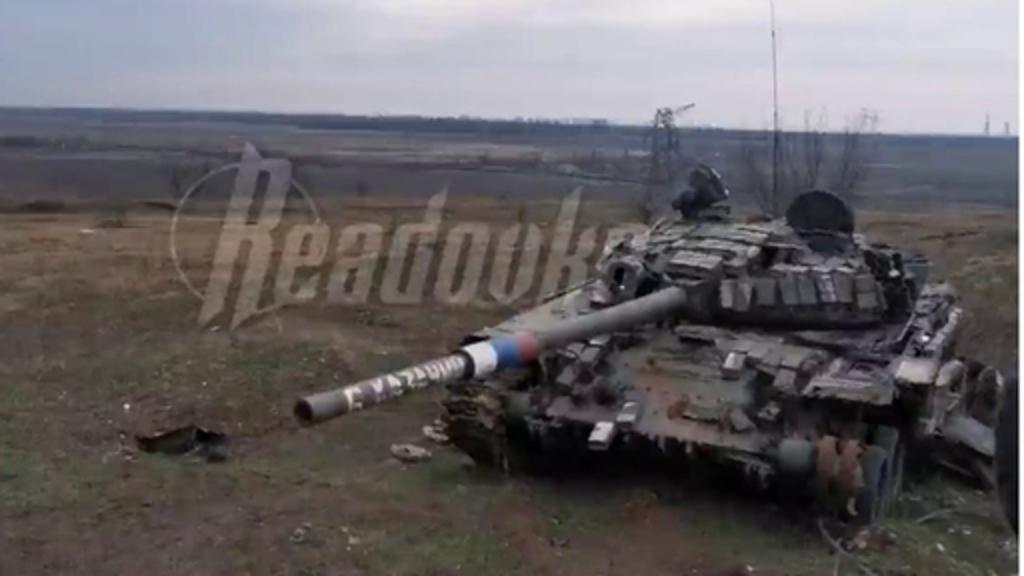TANK: (294, 182, 966, 546)
